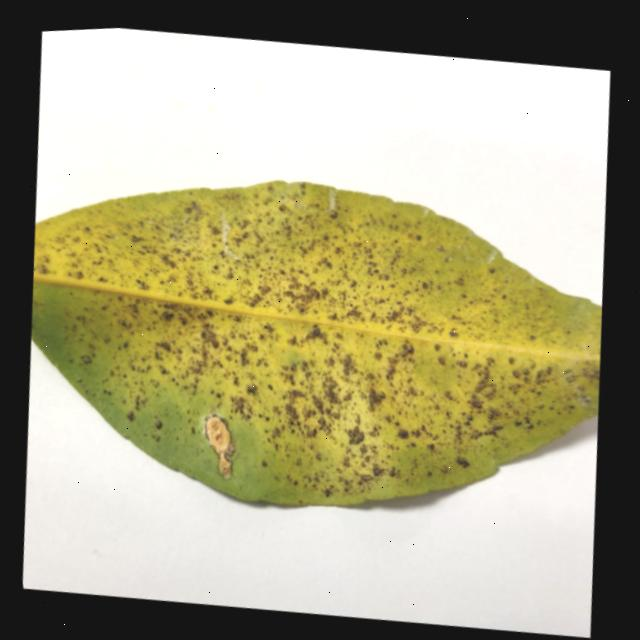melanose: (30, 180, 600, 504)
